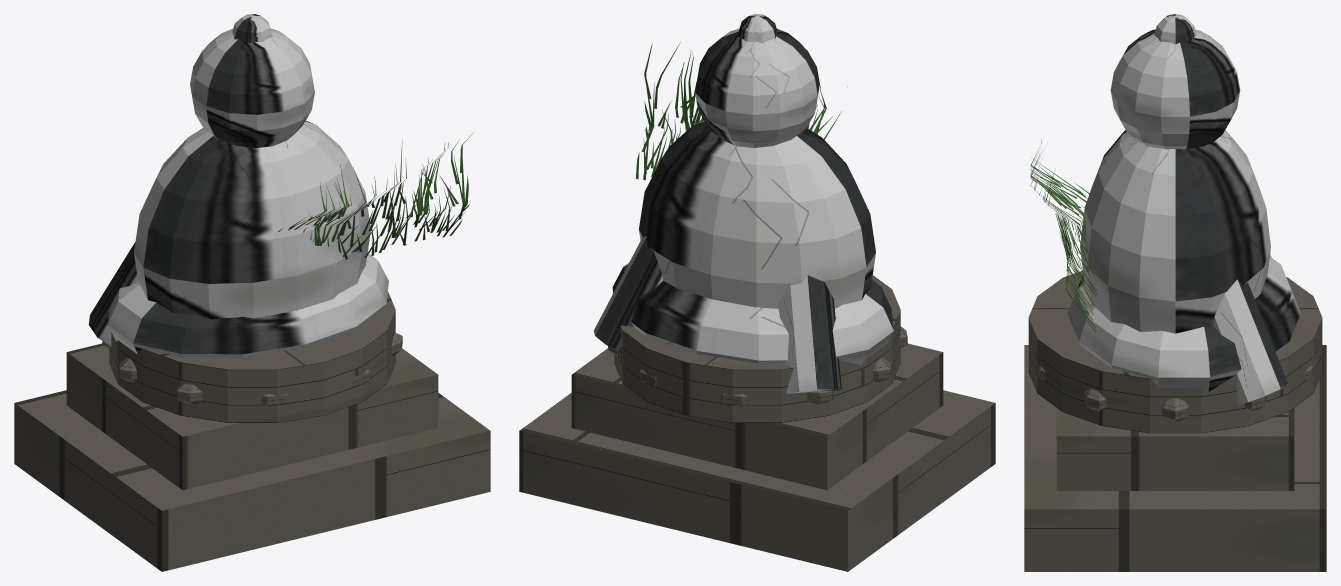
Rendered from mieu-hoang-tuong-da-mon.glb.
3 views of the same model, side by side, from view 1: azimuth 30°, elevation 25°; view 2: azimuth 150°, elevation 25°; view 3: azimuth 270°, elevation 25° (orthographic). The views are drawn at different scales.
Parts seen in each view (by area): view 1: mieu-hoang-tuong-da-mon; view 2: mieu-hoang-tuong-da-mon; view 3: mieu-hoang-tuong-da-mon.
Boxes of the visible parts, x1,y1,x2,y2 form: mieu-hoang-tuong-da-mon: (14, 14, 490, 571); mieu-hoang-tuong-da-mon: (519, 14, 995, 571); mieu-hoang-tuong-da-mon: (1024, 14, 1326, 571).
Bounding box in the file's own units: 0.9 × 1.21 × 0.7.
Materials: 3 (3 with a texture image).
